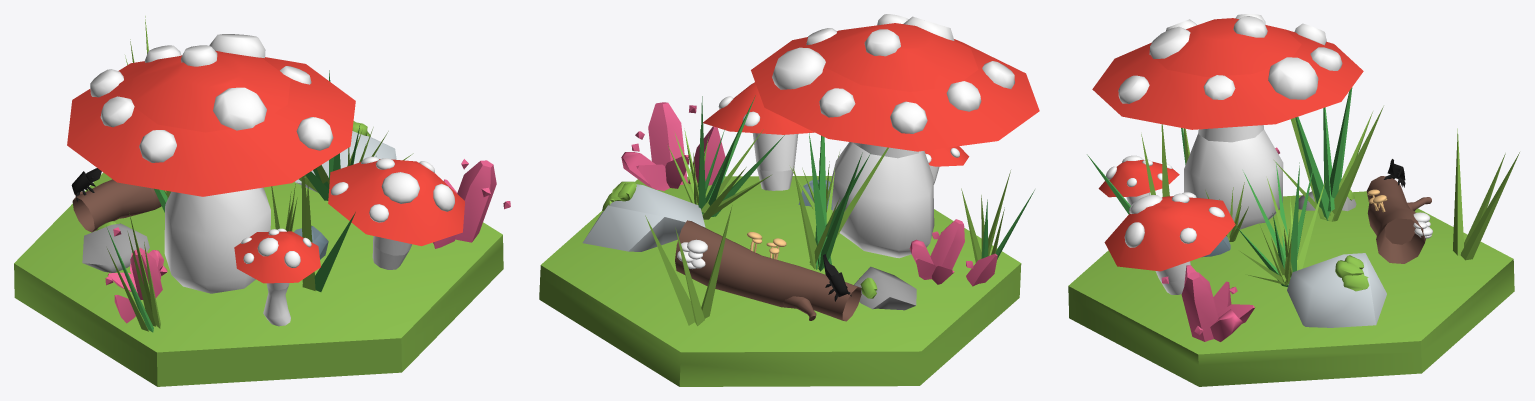
File: mashroom.fbx
3 views of the same model, side by side, from view 1: azimuth 30°, elevation 25°; view 2: azimuth 150°, elevation 25°; view 3: azimuth 270°, elevation 25° (orthographic). The views are drawn at different scales.
Parts seen in each view (by area): view 1: Null_1; view 2: Null_1; view 3: Null_1.
Part boxes in pixels (left/top/right/bottom): Null_1: left=14, top=16, right=510, bottom=386; Null_1: left=539, top=14, right=1039, bottom=386; Null_1: left=1068, top=14, right=1519, bottom=386.
Bounding box in the file's own units: 89.03 × 58.87 × 93.81.
